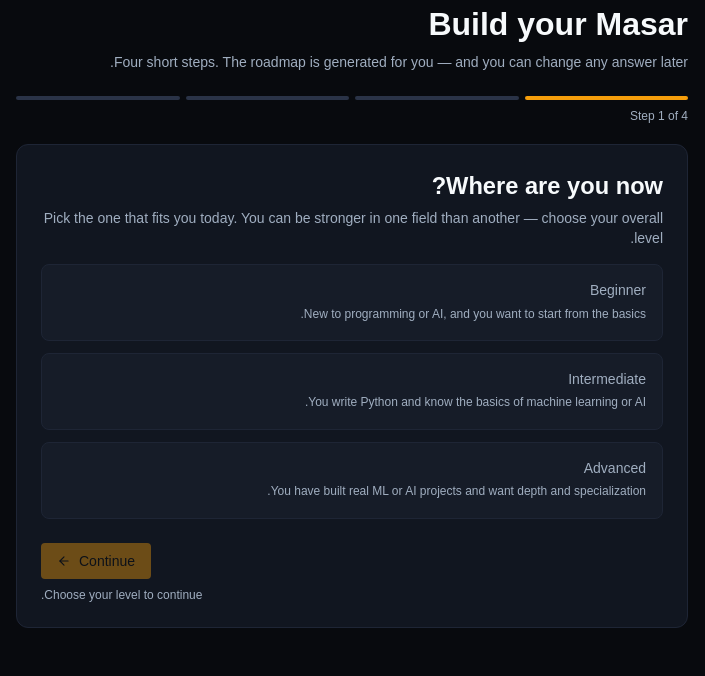
Test: step 2 — what are you interested in? › needs at least one field to continue
Click the radio button labelled "Intermediate": (607, 379) x1=41 y1=353 x2=663 y2=430
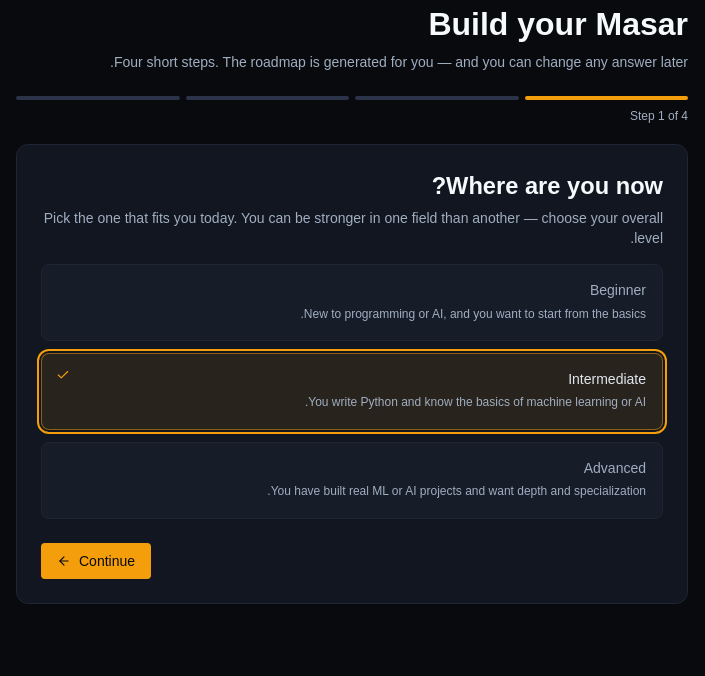
Click the button "Continue": (96, 561) x1=41 y1=543 x2=151 y2=579
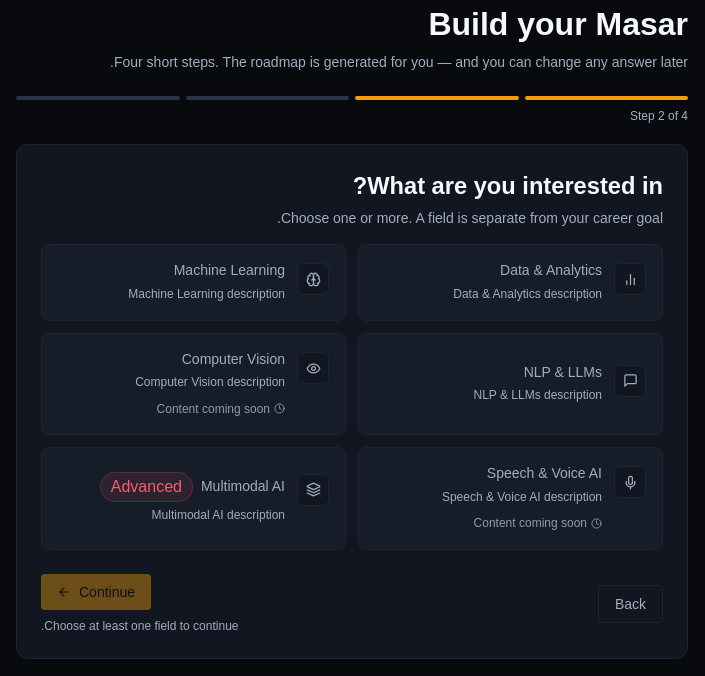
Check: the button "Continue" is disabled, box x1=41 y1=574 x2=151 y2=610
Check: the text "Choose at least one field to continue." is shown, box x1=41 y1=618 x2=238 y2=634
Click the checkbox labelled "Machine Learning Machine Learning description": (313, 279) x1=41 y1=244 x2=346 y2=321
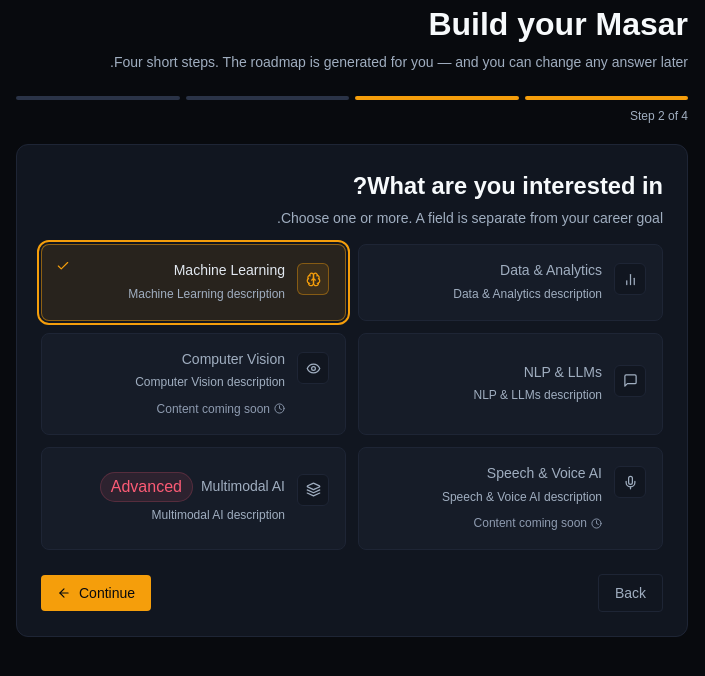
Check: the button "Continue" is enabled, box x1=41 y1=575 x2=151 y2=611
